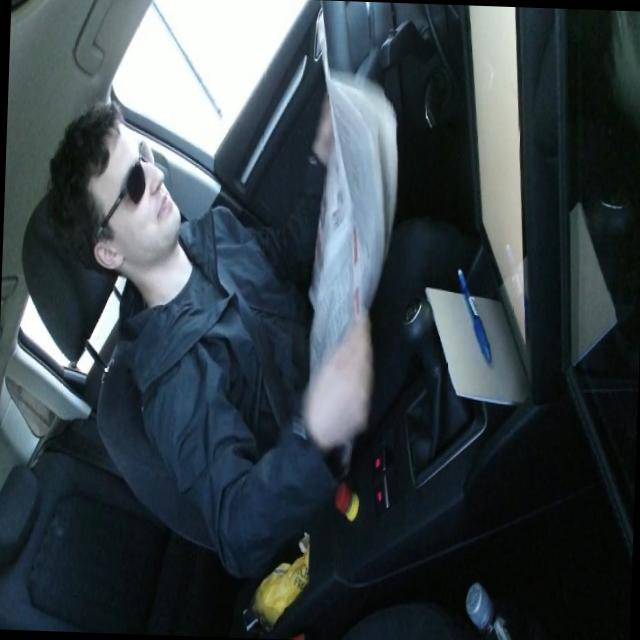pen: (453, 265, 495, 364)
